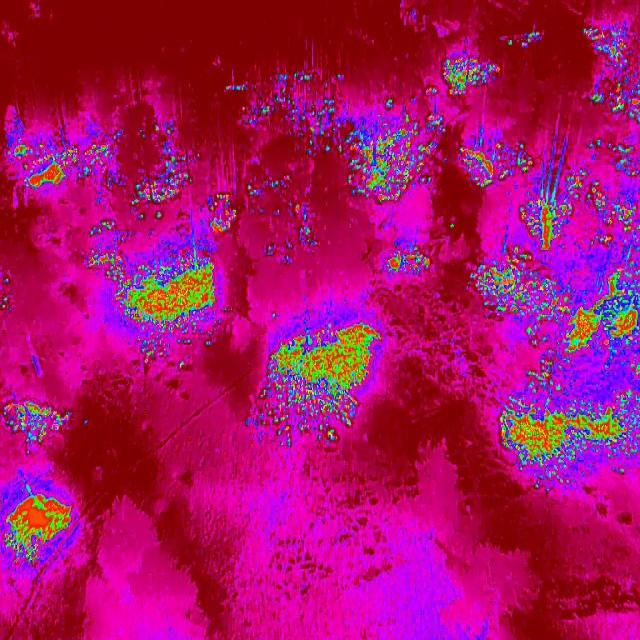fire: (236, 66, 446, 198), (475, 196, 640, 329), (90, 216, 228, 363), (254, 318, 385, 452), (503, 381, 640, 485), (583, 17, 640, 195), (138, 139, 238, 233), (9, 123, 123, 189), (526, 328, 640, 383), (2, 488, 71, 564), (440, 45, 513, 104), (462, 132, 538, 184), (3, 392, 70, 448), (376, 233, 437, 288)
